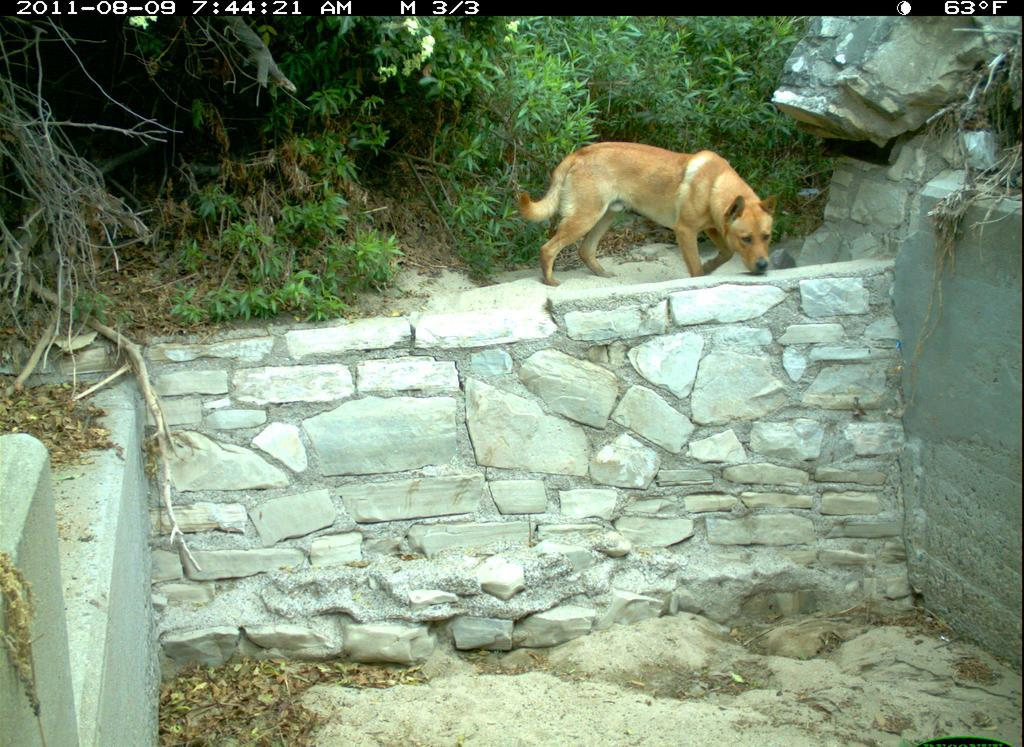dog: (518, 126, 784, 287)
